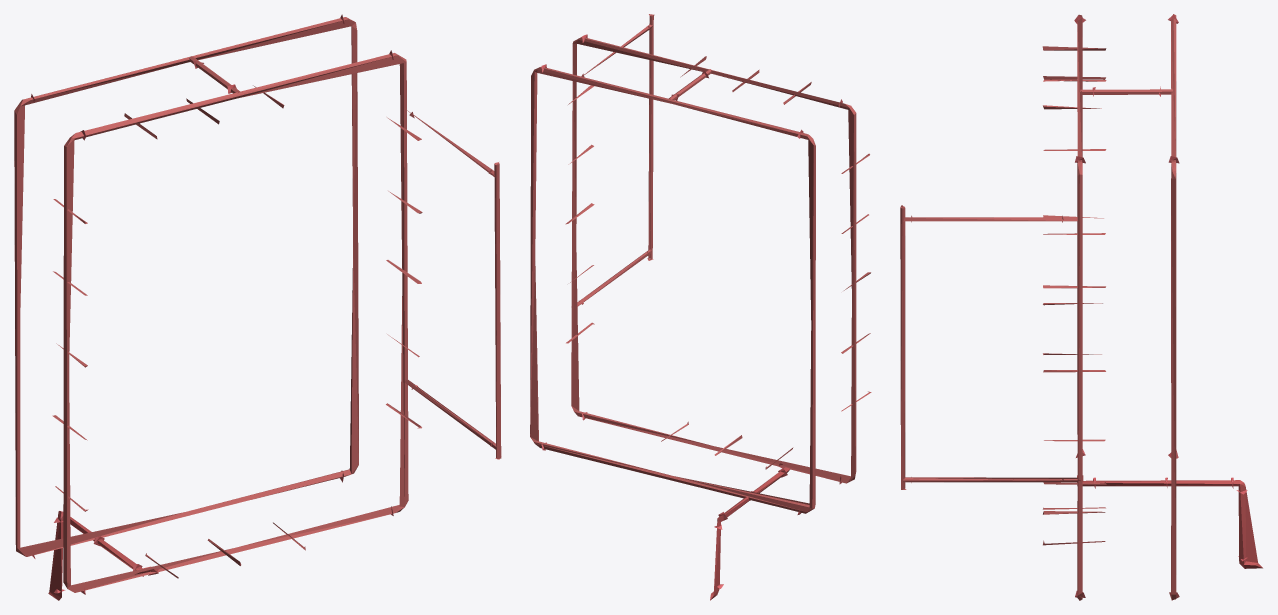
Rendered from qt-xfss-026-geode.glb.
The picture shows the model from 3 angles, left to right: view 1: azimuth 30°, elevation 25°; view 2: azimuth 150°, elevation 25°; view 3: azimuth 270°, elevation 25°; orthographic projection. The views are drawn at different scales.
Parts seen in each view (by area): view 1: Node; view 2: Node; view 3: Node.
Boxes of the visible parts, bbox=[...] form: Node: bbox=[14, 14, 501, 600]; Node: bbox=[530, 14, 871, 600]; Node: bbox=[900, 14, 1262, 600].
Size of the model in its own units: 8.53 by 13.07 by 8.17.
Materials: 1 (1 with a texture image).
